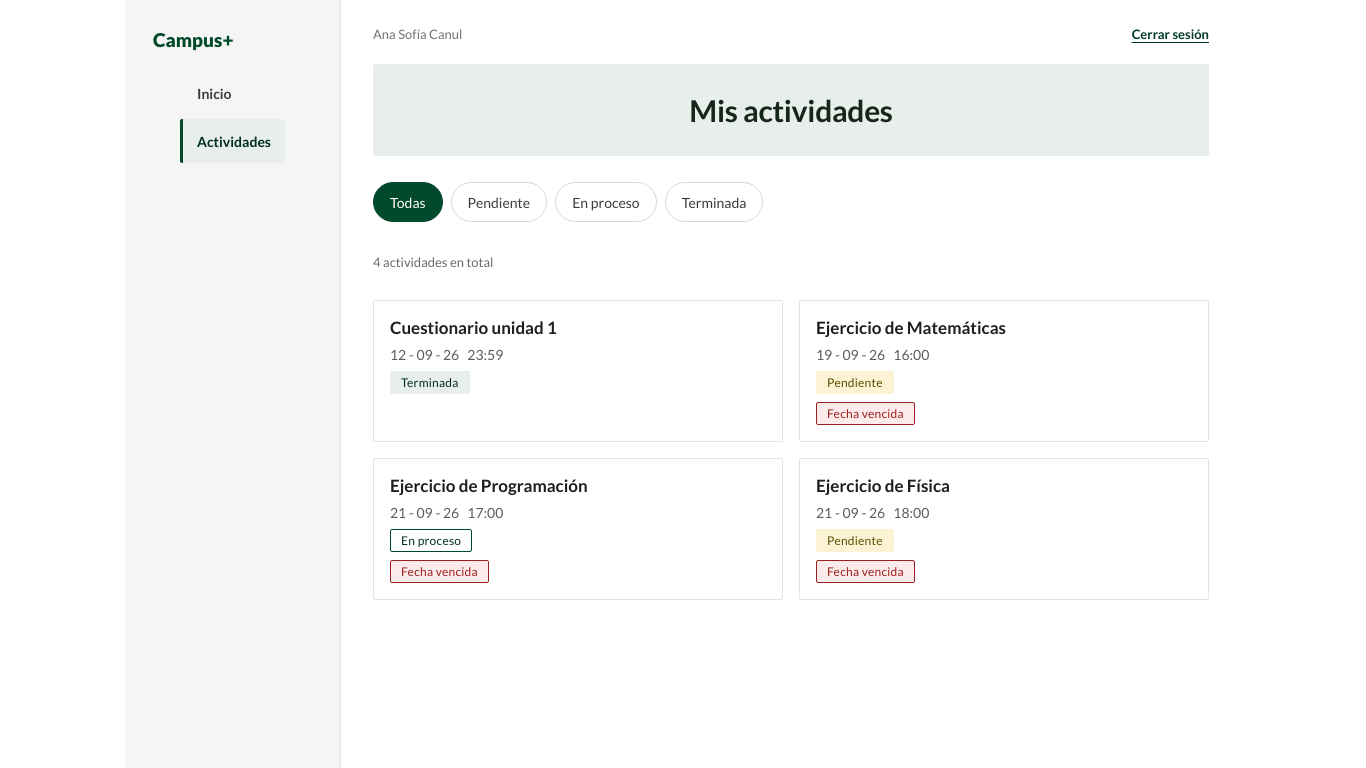
Test: Flujo del estudiante › filtra sus actividades por estado
Check: the text "Cuestionario unidad 1" is shown, box [390,317,557,338]
Click the button "Terminada" at (714, 202), box [665,182,763,222]
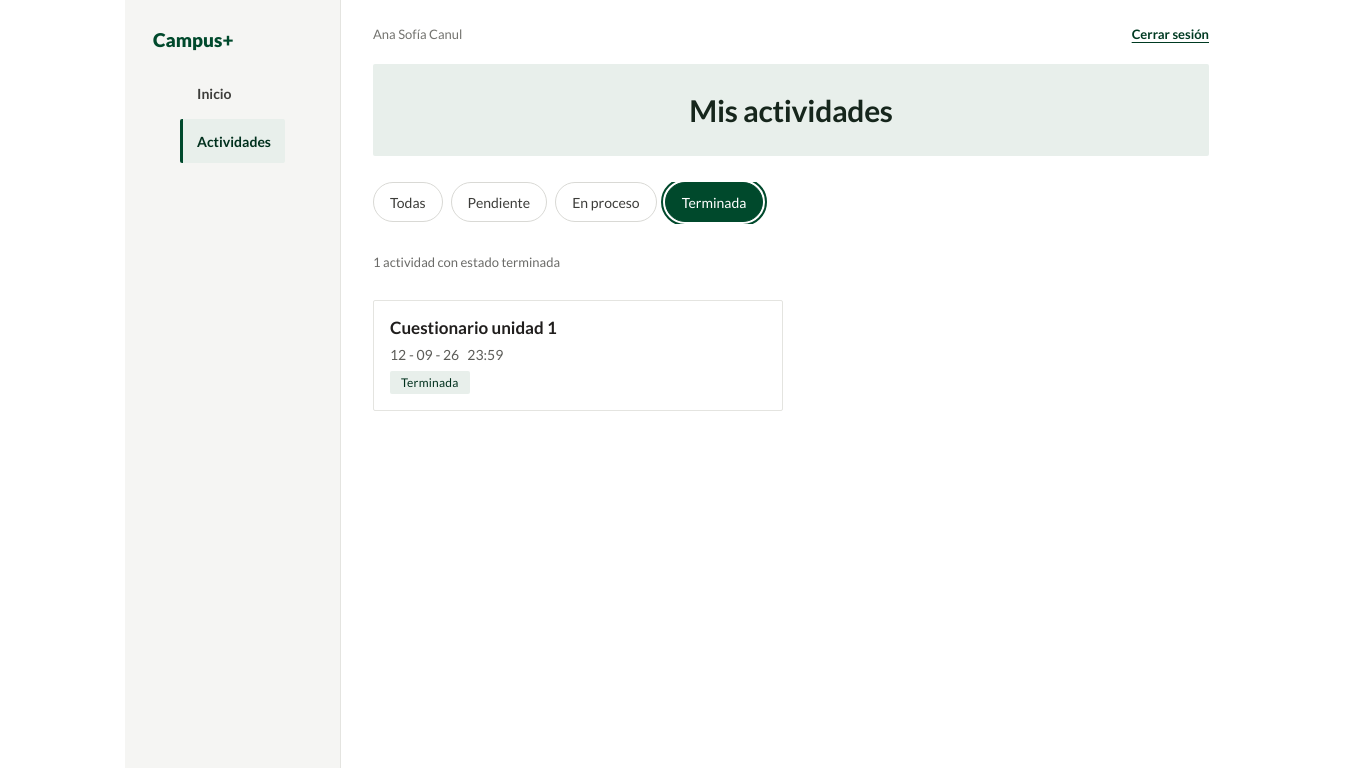
Check: the text "Cuestionario unidad 1" is shown, box [390,317,557,338]
Check: the button "Ejercicio de Física" is gone
